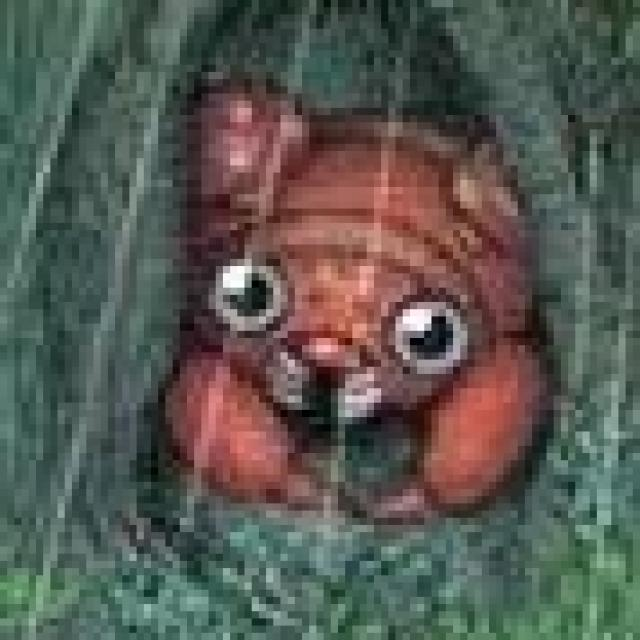Paras: (177, 74, 539, 528)
